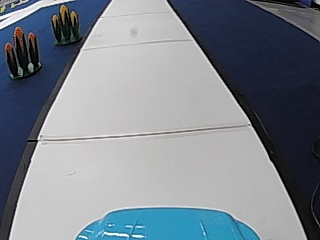corn: (5, 25, 42, 78), (49, 3, 82, 45)
